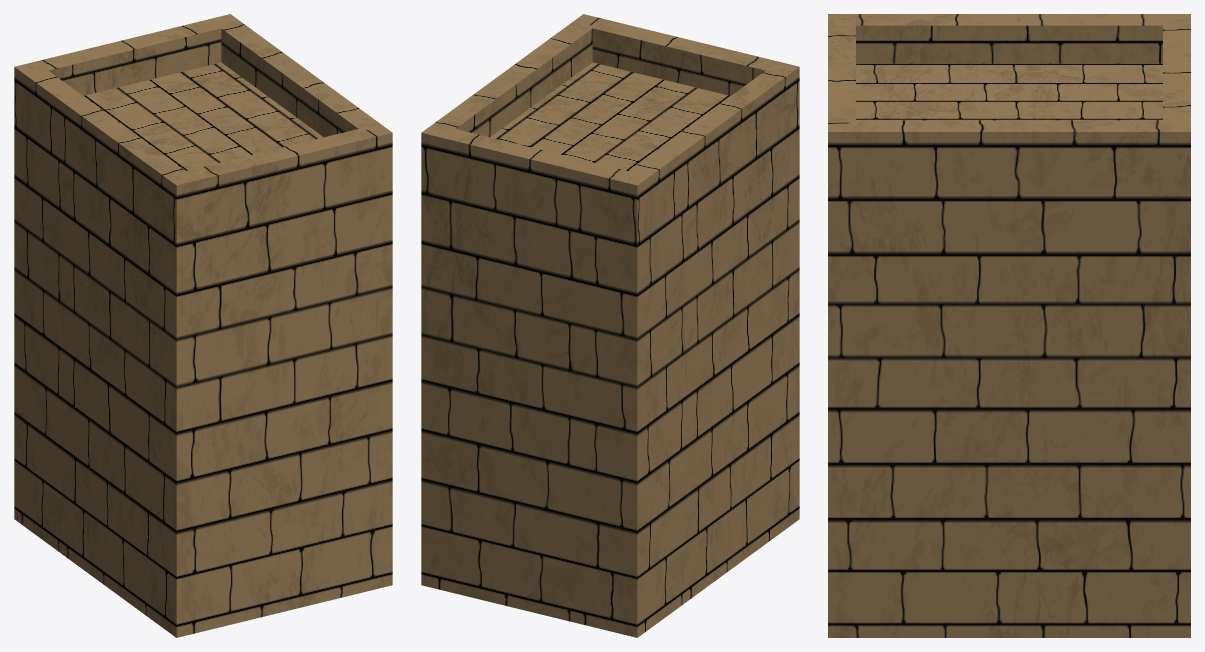
File: Edificio1.fbx
3 renders of one model, left to right at view 1: azimuth 30°, elevation 25°; view 2: azimuth 150°, elevation 25°; view 3: azimuth 270°, elevation 25°, orthographic. The views are drawn at different scales.
Visible parts, largest first — view 1: Box001; view 2: Box001; view 3: Box001.
Boxes of the visible parts, left/top/right/bottom form: Box001: left=14, top=14, right=392, bottom=637; Box001: left=421, top=14, right=799, bottom=637; Box001: left=828, top=14, right=1190, bottom=637.
Size of the model in its own units: 1 by 2 by 1.3.
